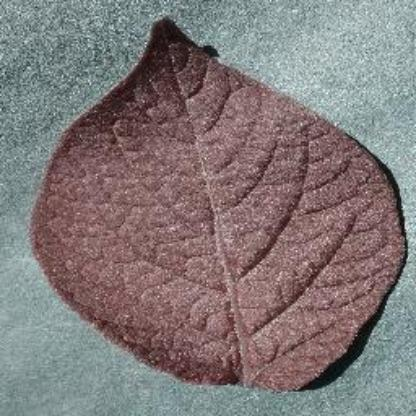Healthy-plant: (27, 17, 407, 396)
